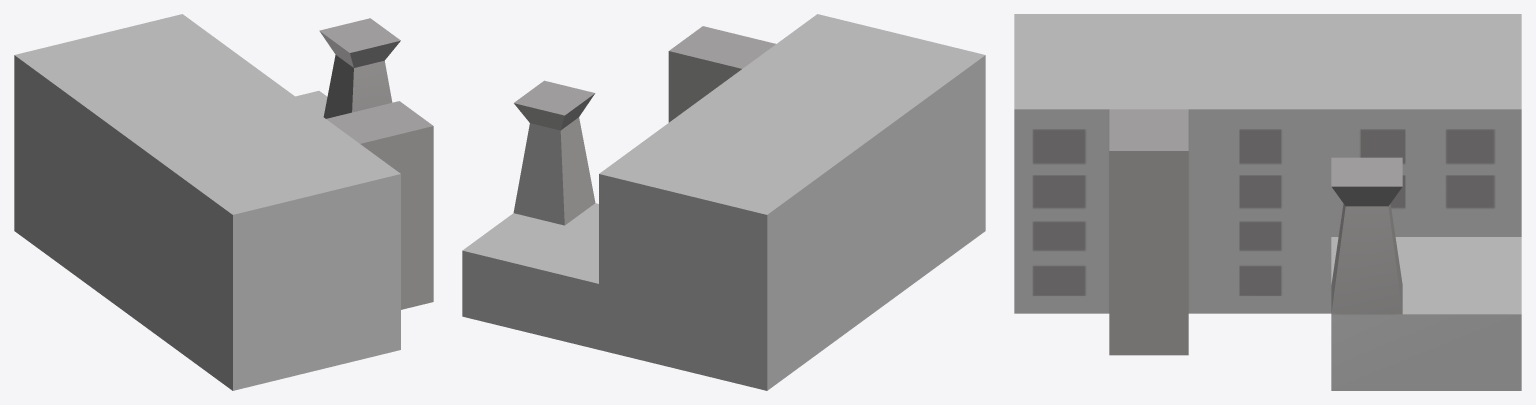
File: Building08.fbx
The picture shows the model from 3 angles, left to right: view 1: azimuth 30°, elevation 25°; view 2: azimuth 150°, elevation 25°; view 3: azimuth 270°, elevation 25°; orthographic projection. The views are drawn at different scales.
Visible parts, largest first — view 1: pCube2; view 2: pCube2; view 3: pCube2.
Boxes of the visible parts, <box> form: pCube2: <box>14,14,433,390</box>; pCube2: <box>462,14,985,390</box>; pCube2: <box>1014,14,1521,390</box>.
Size of the model in its own units: 14.5 by 8 by 18.
